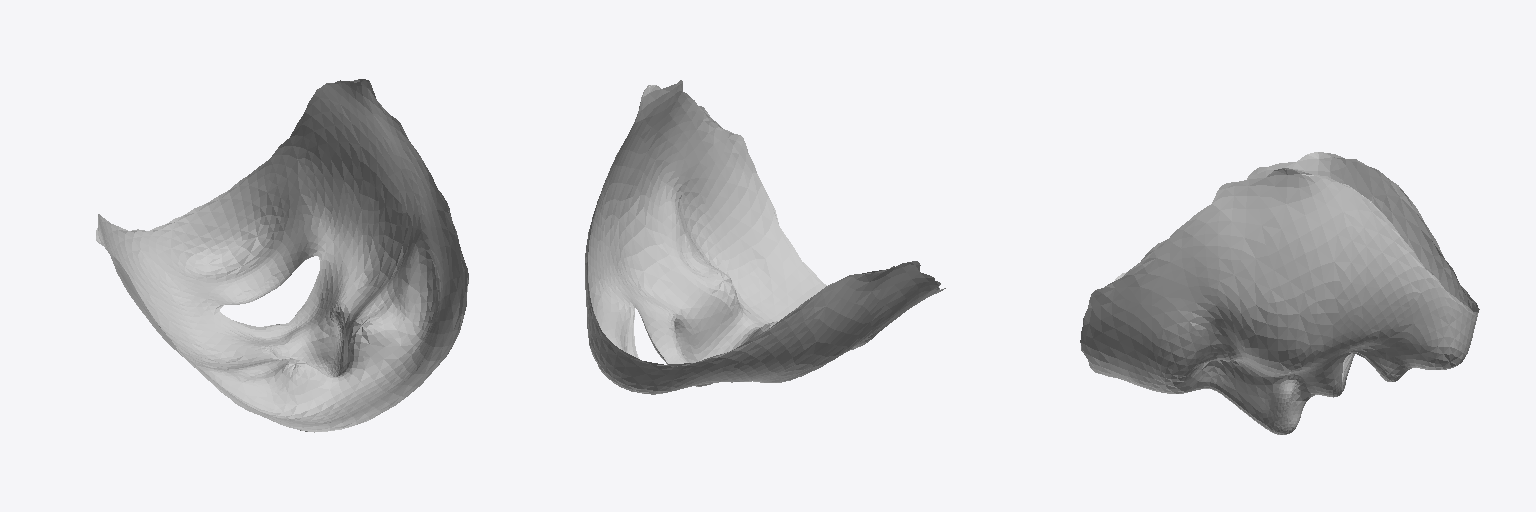
The model's file is face_gab_sfm86.obj.
3 views of the same model, side by side, from view 1: azimuth 30°, elevation 25°; view 2: azimuth 150°, elevation 25°; view 3: azimuth 270°, elevation 25° (orthographic).
Bounding box in the file's own units: 166 × 163 × 204.